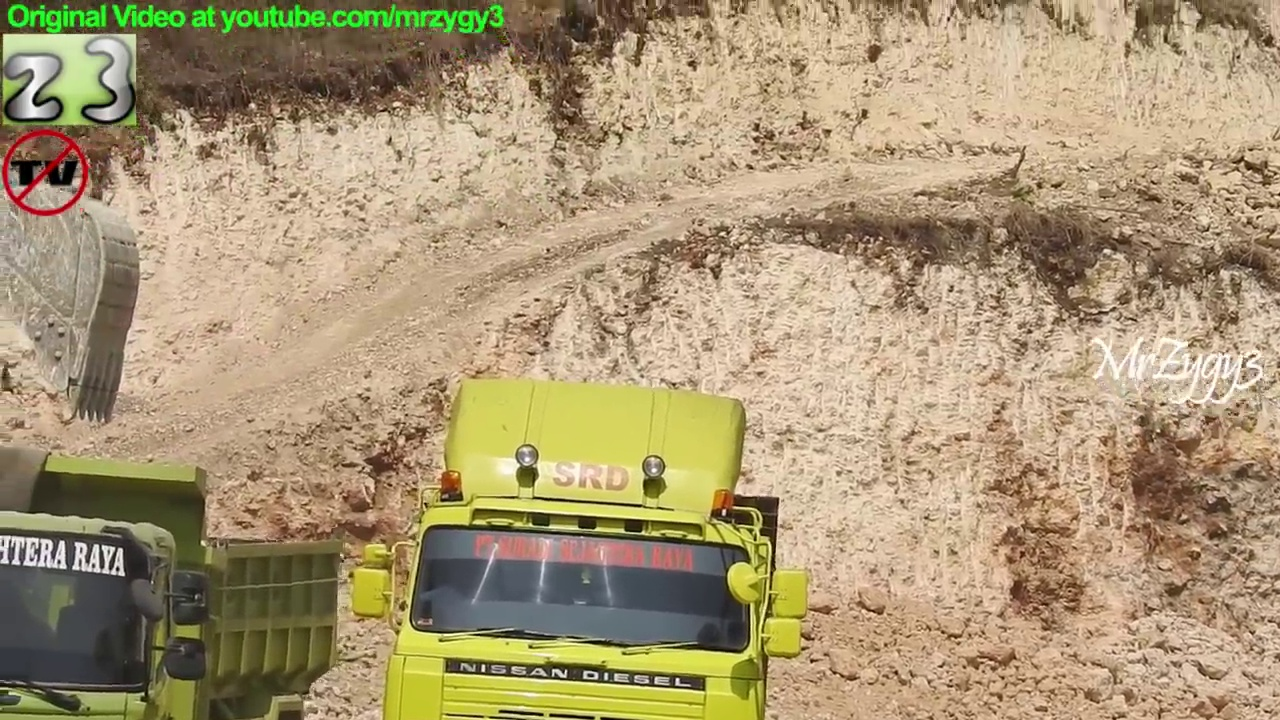excavator: (1, 173, 150, 436)
truck: (348, 372, 813, 720), (1, 441, 345, 720)
